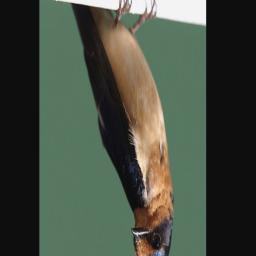Swallow: (71, 0, 173, 256)
